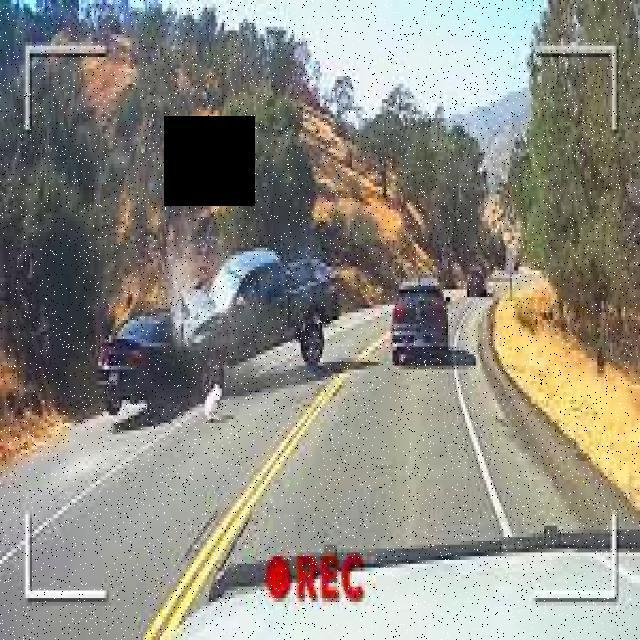severe: (94, 240, 344, 434)
